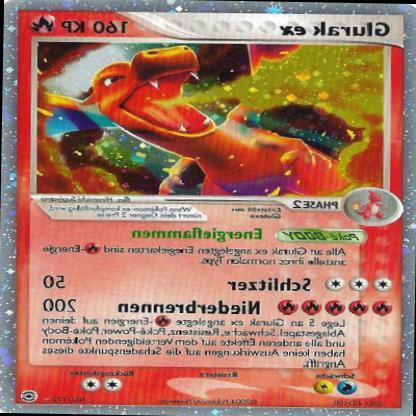Charizard: (39, 44, 371, 186)
